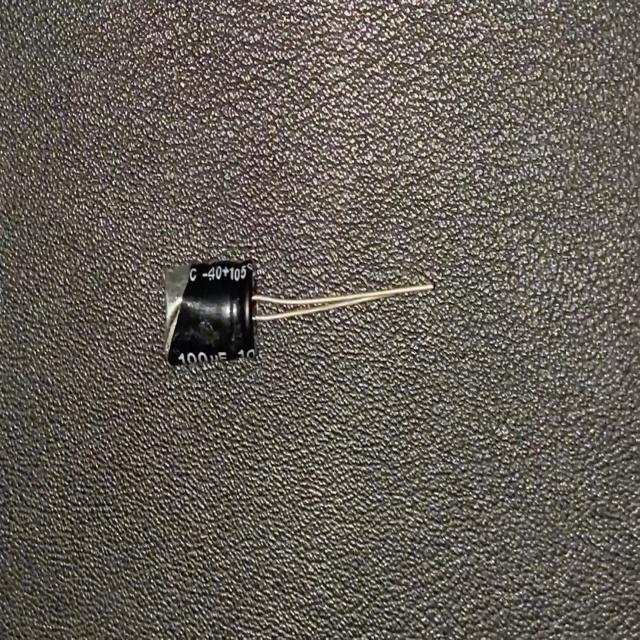capacitor: (162, 258, 437, 376)
cracked: (165, 261, 191, 360)
